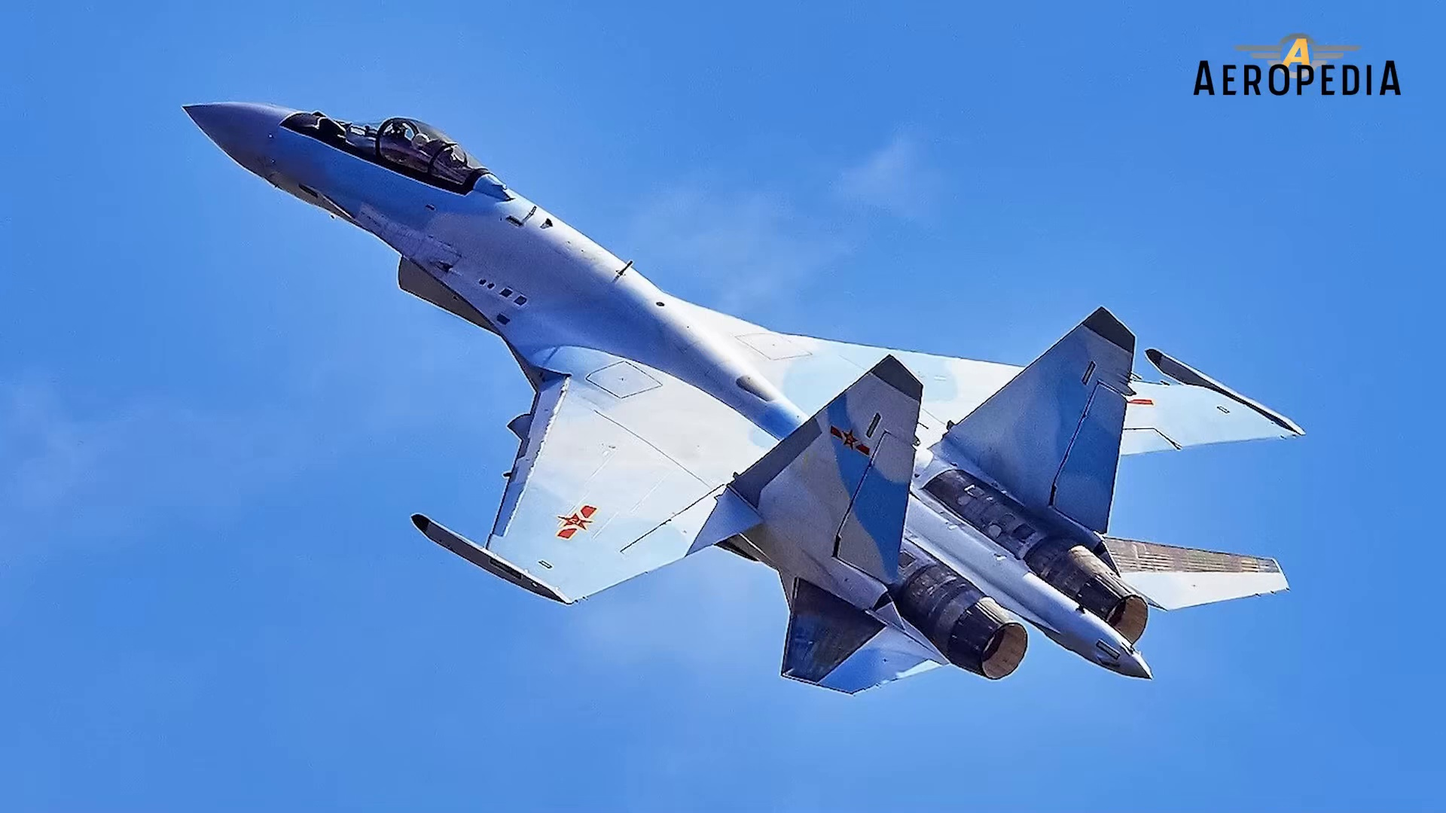Su35: (182, 103, 1307, 696)
